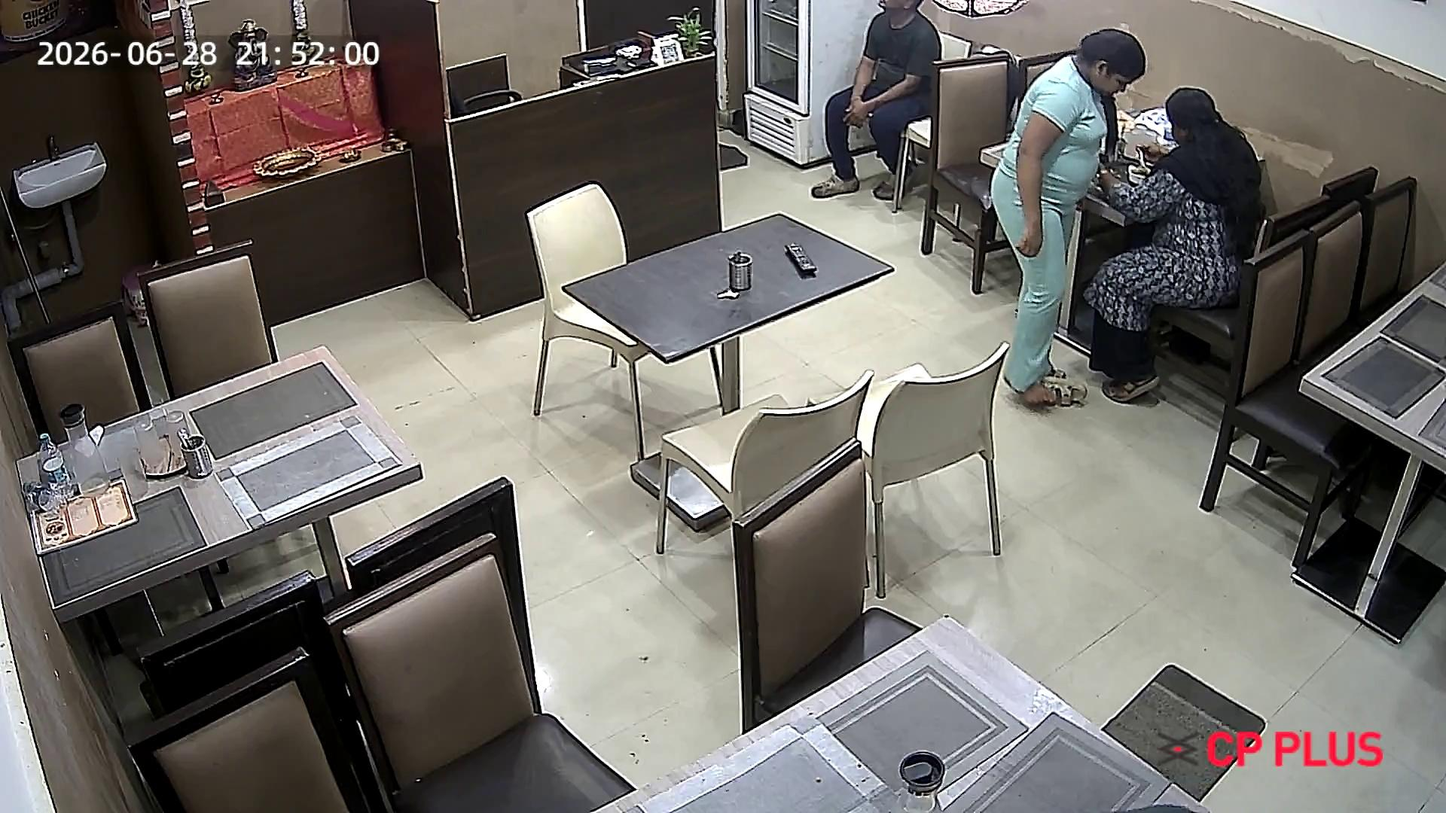clean: (617, 629, 1160, 813), (562, 212, 895, 361), (1289, 272, 1446, 460)
dirty: (9, 334, 426, 611)
